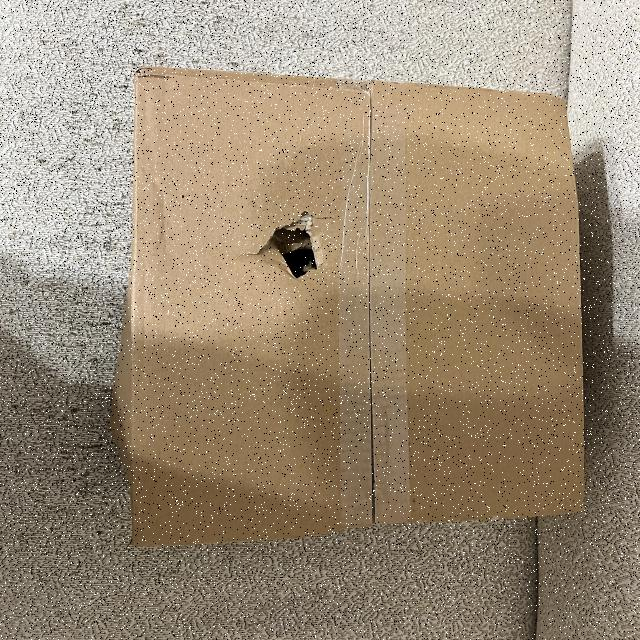damaged: (126, 68, 594, 538), (241, 205, 344, 293)
